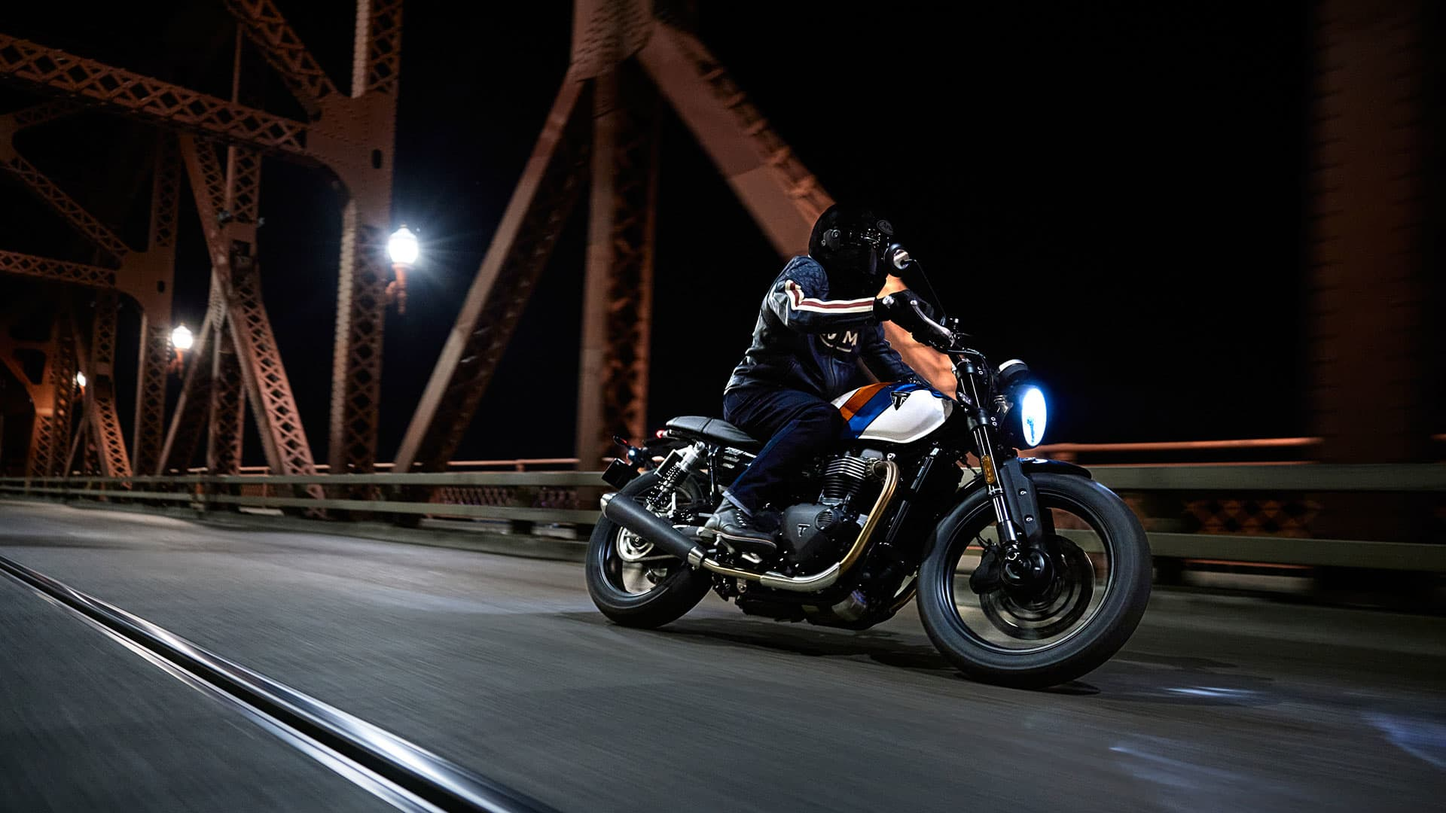Motorcycle: (554, 316, 1148, 677)
